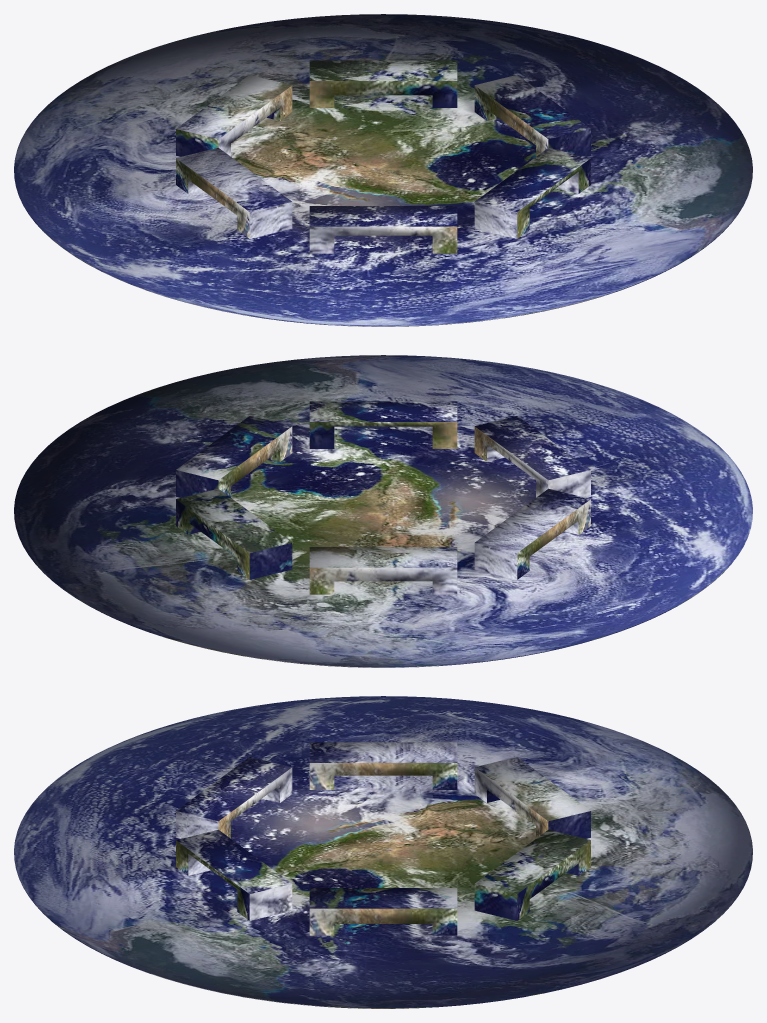
File: parkour_6.dae
3 views of the same model, one above another, from view 1: azimuth 30°, elevation 25°; view 2: azimuth 150°, elevation 25°; view 3: azimuth 270°, elevation 25° (orthographic).
Parts seen in each view (by area): view 1: Parkour_3; view 2: Parkour_3; view 3: Parkour_3.
Part boxes in pixels (<box>): Parkour_3: <box>14,14,752,326</box>; Parkour_3: <box>14,355,752,667</box>; Parkour_3: <box>14,696,752,1008</box>.
Bounding box in the file's own units: 15 × 15 × 0.61.
Materials: 1 (1 with a texture image).
